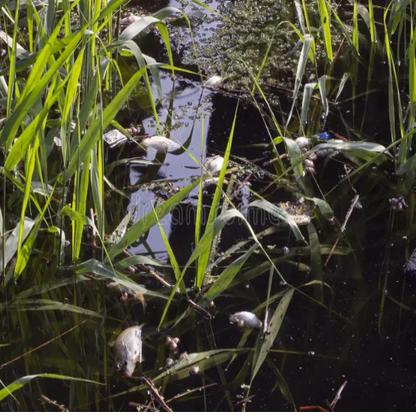deceased fish: (111, 323, 147, 375)
